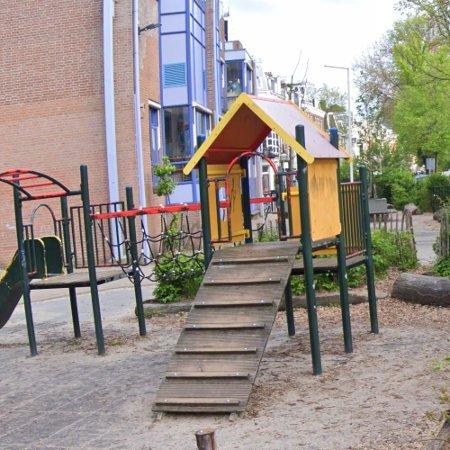stairs: (153, 243, 298, 414)
